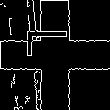L_E: (30, 40, 80, 70)
